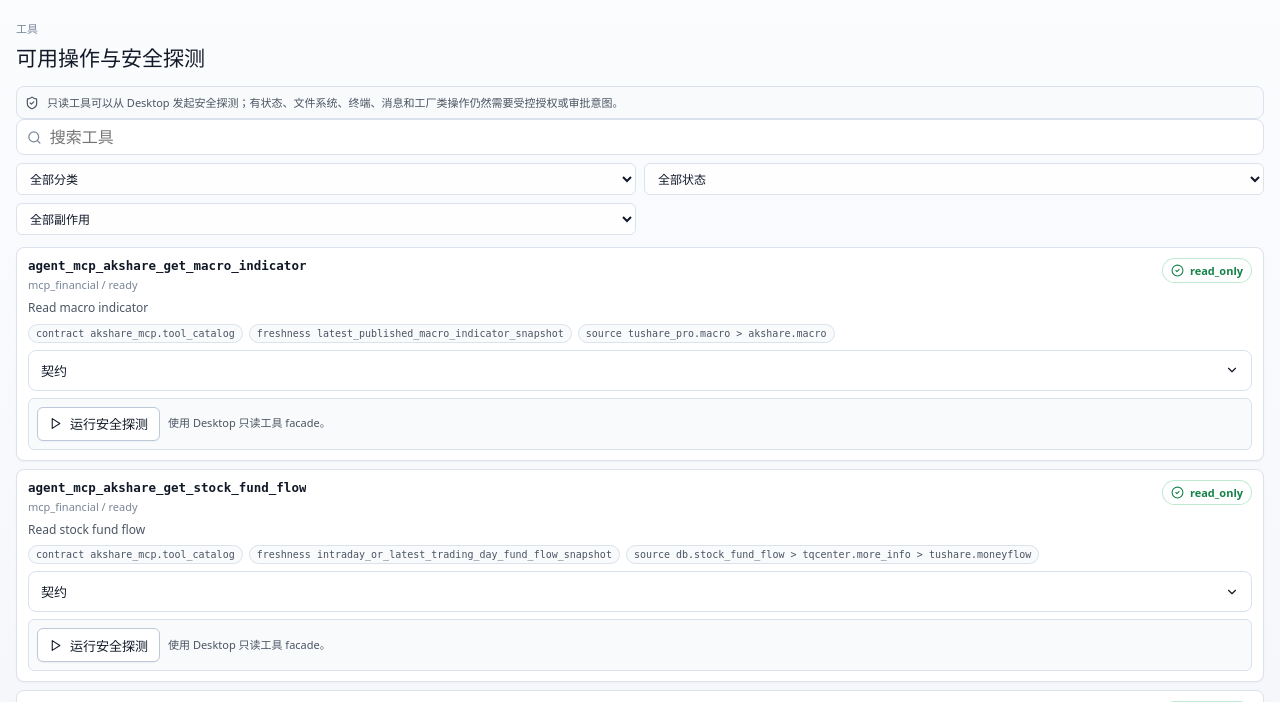
Test: ToolCatalog › searches contract metadata for macro, fund flow, and options tools
Expected: the text "freshness latest_published_macro_indicator_snapshot" is shown, x1=249 y1=324 x2=572 y2=343
Expected: the text "source db.stock_fund_flow > tqcenter.more_info > tushare.moneyflow" is shown, x1=626 y1=545 x2=1039 y2=564
Type "akshare.option_sse" into the field with placeholder "搜索工具" at (651, 137), box x1=50 y1=120 x2=1253 y2=154
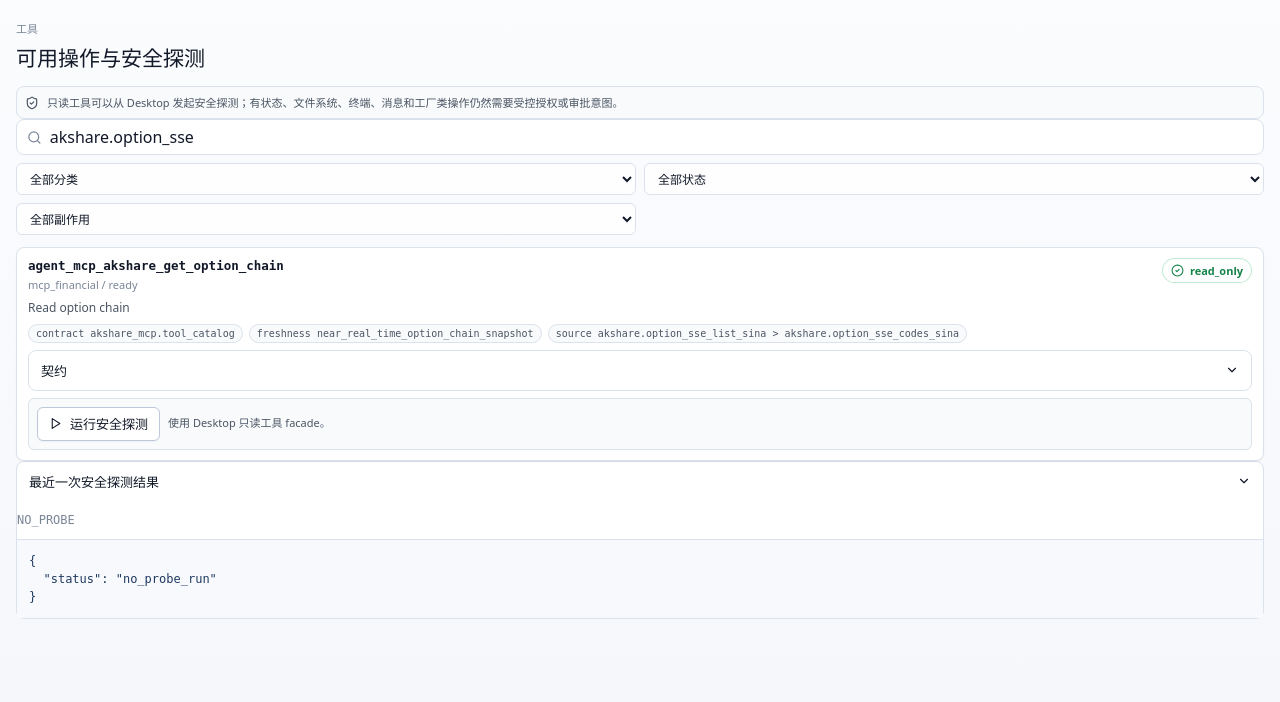
Expected: the text "agent_mcp_akshare_get_option_chain" is shown, x1=28 y1=258 x2=284 y2=273
Expected: the text "agent_mcp_akshare_get_macro_indicator" is gone
Expected: the text "agent_mcp_akshare_get_stock_fund_flow" is gone
